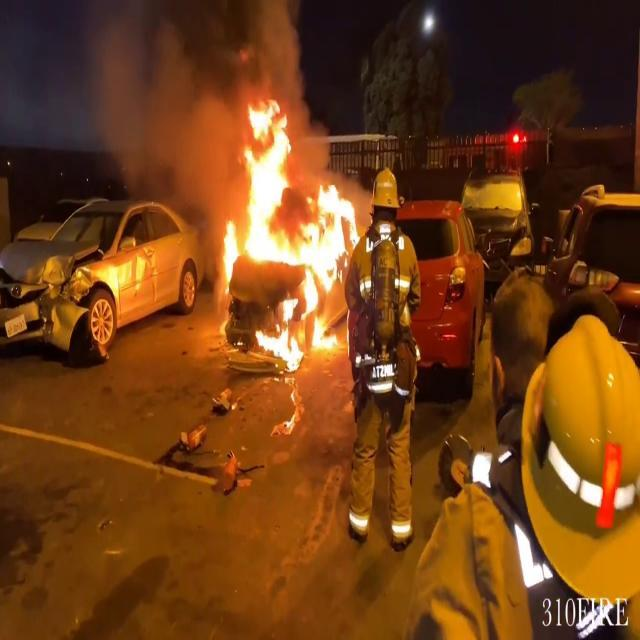Fire: (212, 95, 360, 358)
Smoke: (62, 0, 311, 181)
